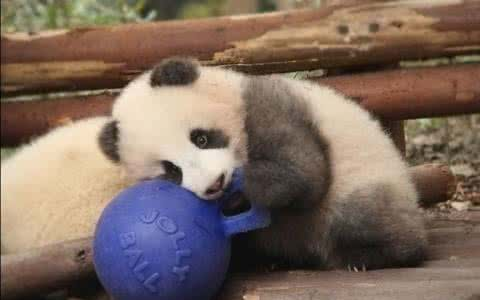panda: (83, 57, 439, 271)
